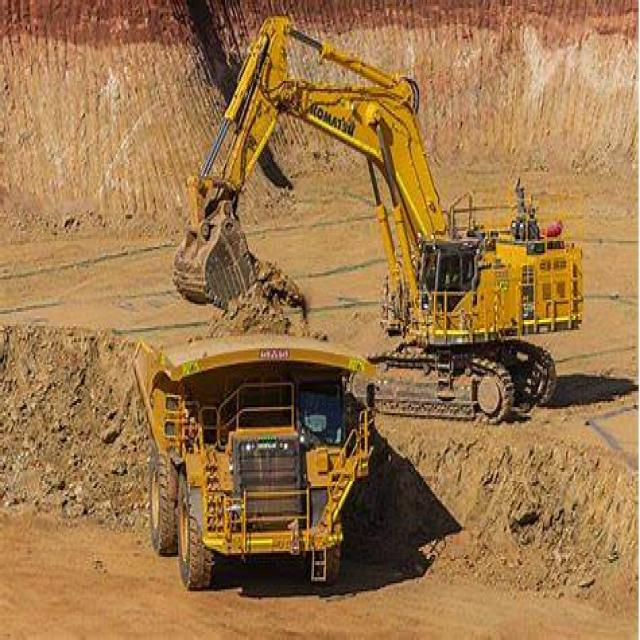dump_truck: (119, 320, 378, 591)
excavator: (152, 19, 589, 438)
